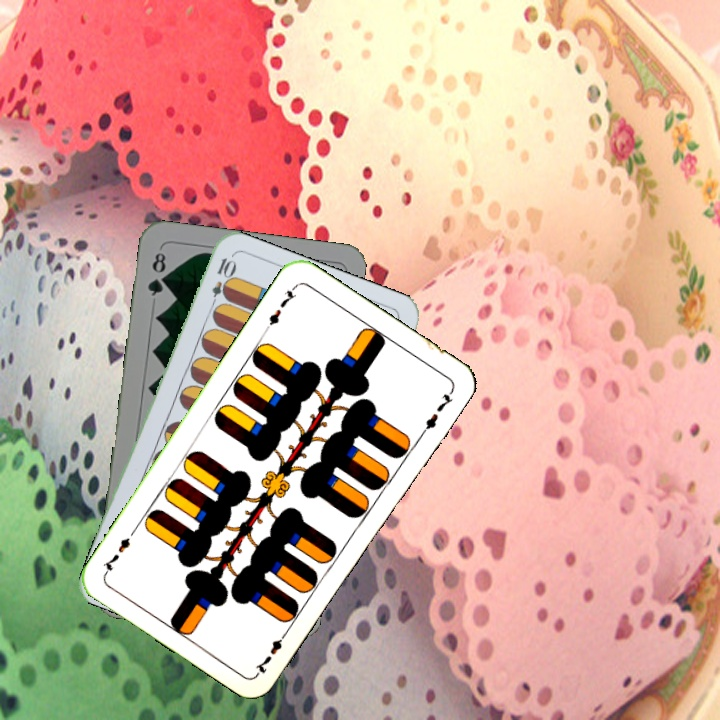E10: (206, 254, 236, 312)
E7: (251, 625, 292, 677), (260, 281, 300, 334)
G8: (143, 248, 169, 299)
